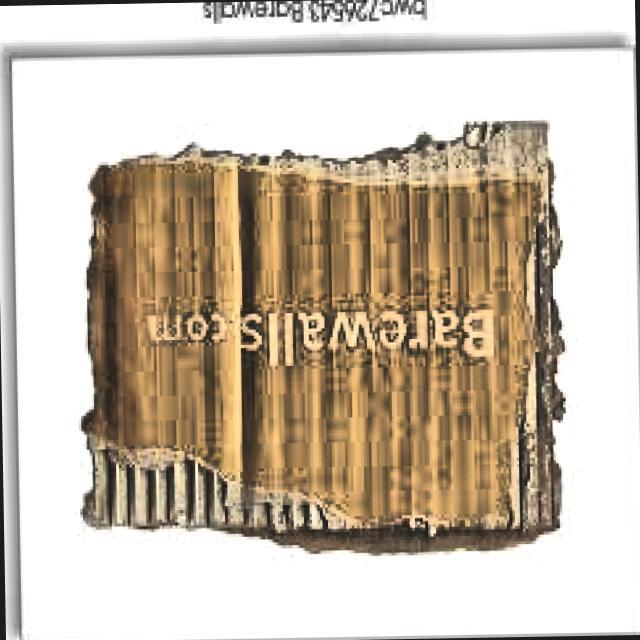cardboard: (74, 122, 570, 564)
